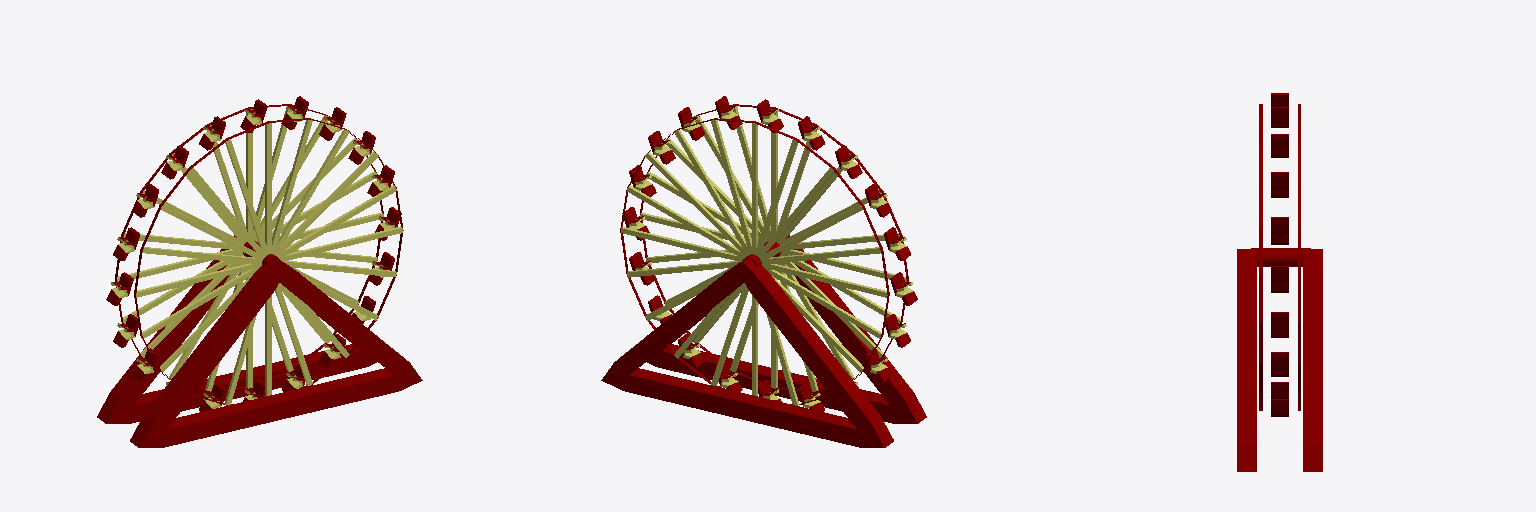
Rendered from ferris-wheel.obj.
The picture shows the model from 3 angles: view 1: azimuth 30°, elevation 25°; view 2: azimuth 150°, elevation 25°; view 3: azimuth 270°, elevation 25°; orthographic projection.
Visible parts, largest first — view 1: front_support_Plane.007, front_spokes_Plane.005, back_spokes_Plane.006, back_support_Plane.008, front_ring_Circle.014, back_ring_Circle.011; view 2: back_support_Plane.008, back_spokes_Plane.006, front_spokes_Plane.005, front_support_Plane.007, back_ring_Circle.011, front_ring_Circle.014; view 3: front_support_Plane.007, back_support_Plane.008, front_ring_Circle.014, back_ring_Circle.011, axel_Cylinder.001.
Part boxes in pixels (bbox=[...]): front_support_Plane.007: bbox=[130, 256, 422, 447]; front_spokes_Plane.005: bbox=[136, 120, 402, 405]; back_spokes_Plane.006: bbox=[117, 109, 383, 391]; back_support_Plane.008: bbox=[97, 235, 376, 423]; front_ring_Circle.014: bbox=[134, 118, 403, 405]; back_ring_Circle.011: bbox=[115, 104, 383, 391]; back_support_Plane.008: bbox=[601, 256, 893, 447]; back_spokes_Plane.006: bbox=[621, 120, 887, 405]; front_spokes_Plane.005: bbox=[640, 109, 906, 391]; front_support_Plane.007: bbox=[647, 235, 926, 423]; back_ring_Circle.011: bbox=[620, 118, 889, 405]; front_ring_Circle.014: bbox=[639, 104, 908, 391]; front_support_Plane.007: bbox=[1237, 249, 1256, 471]; back_support_Plane.008: bbox=[1303, 249, 1322, 471]; front_ring_Circle.014: bbox=[1259, 104, 1262, 410]; back_ring_Circle.011: bbox=[1298, 104, 1300, 410]; axel_Cylinder.001: bbox=[1251, 248, 1310, 266].
Size of the model in its own units: 8.72 by 8.68 by 2.21.